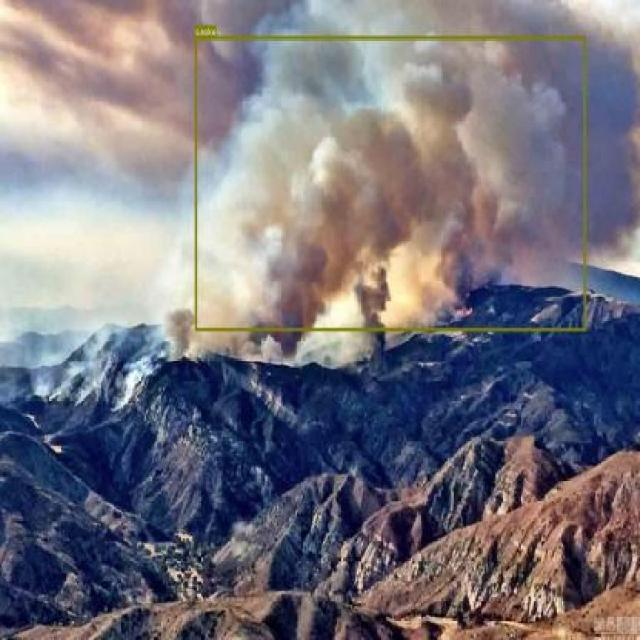Smoke: (194, 36, 586, 330)
